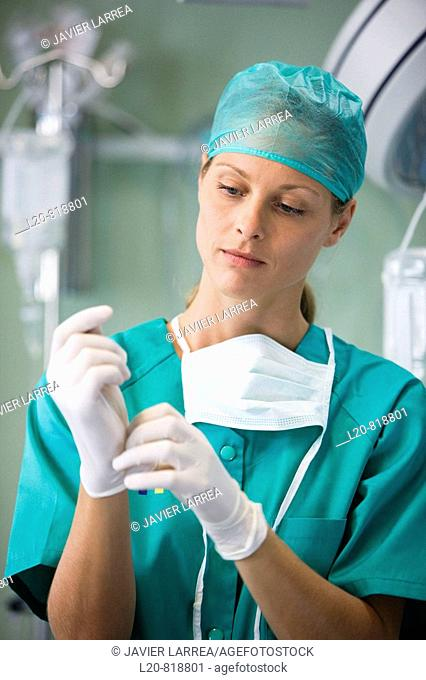Gloves: (112, 399, 268, 563), (45, 303, 139, 499)
without_mask: (194, 150, 319, 306)
